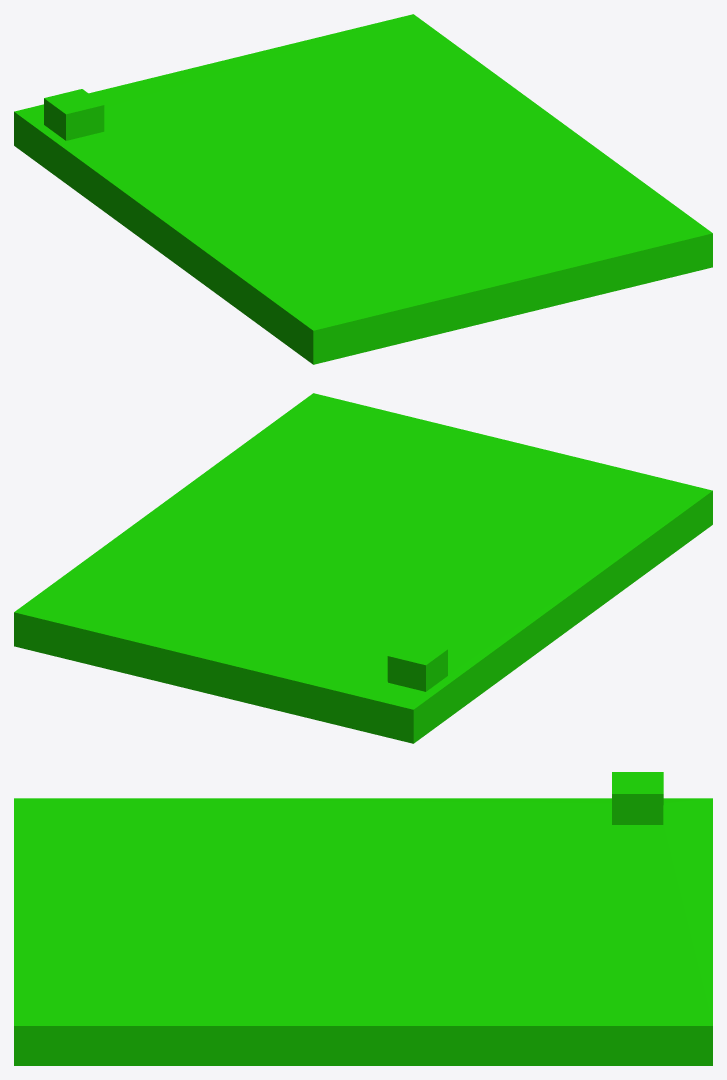
Rendered from SM_Shelf_01_Door_02_Collider.fbx.
3 views of the same model, one above another, from view 1: azimuth 30°, elevation 25°; view 2: azimuth 150°, elevation 25°; view 3: azimuth 270°, elevation 25° (orthographic). The views are drawn at different scales.
Parts seen in each view (by area): view 1: SM_Shelf_01_Door_02_Collider; view 2: SM_Shelf_01_Door_02_Collider; view 3: SM_Shelf_01_Door_02_Collider.
Part boxes in pixels (<box>): SM_Shelf_01_Door_02_Collider: <box>14,14,712,364</box>; SM_Shelf_01_Door_02_Collider: <box>14,393,712,743</box>; SM_Shelf_01_Door_02_Collider: <box>14,772,712,1065</box>.
Bounding box in the file's own units: 64.77 × 9.43 × 84.07.
